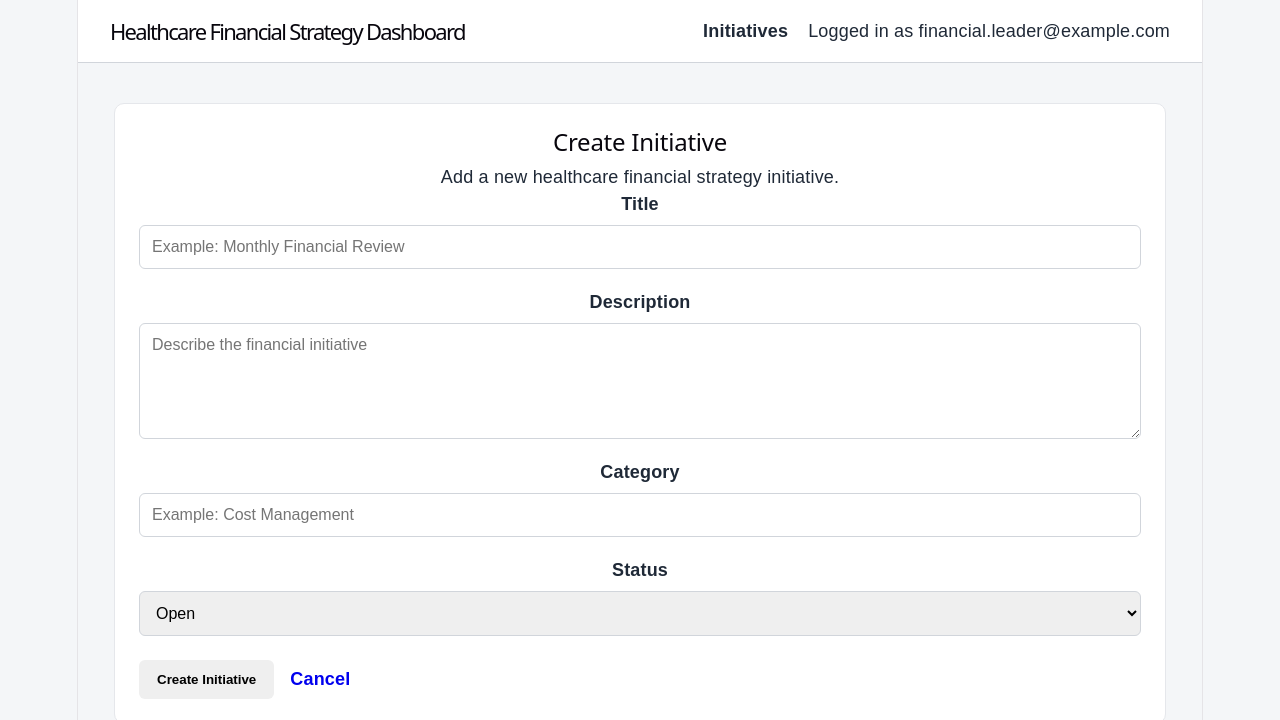
Healthcare Financial Strategy Dashboard › submits a completed create form and shows an API error
The width and height of the screenshot is (1280, 720).
Type "Bundled Payment Review" into the field labelled "Title" at [640, 247], box [139,225,1141,269]
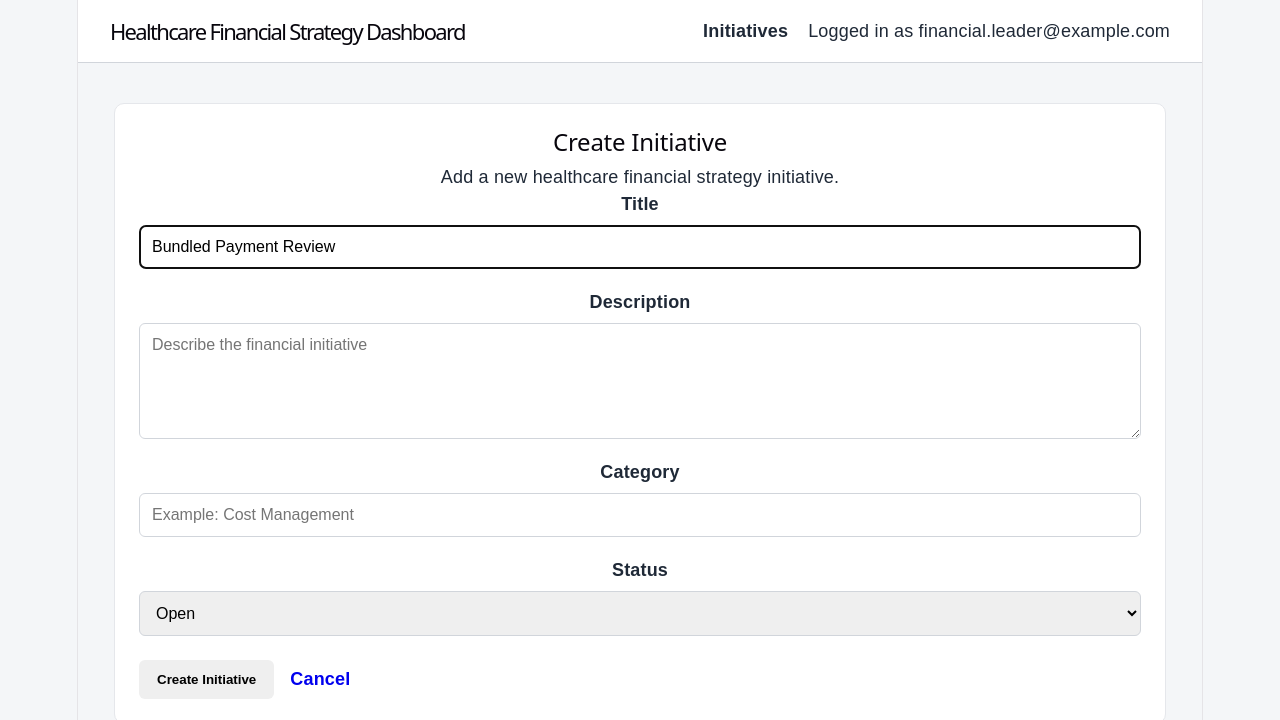
Type "Review financial performance" into the text box labelled "Description" at [640, 381], box [139,323,1141,439]
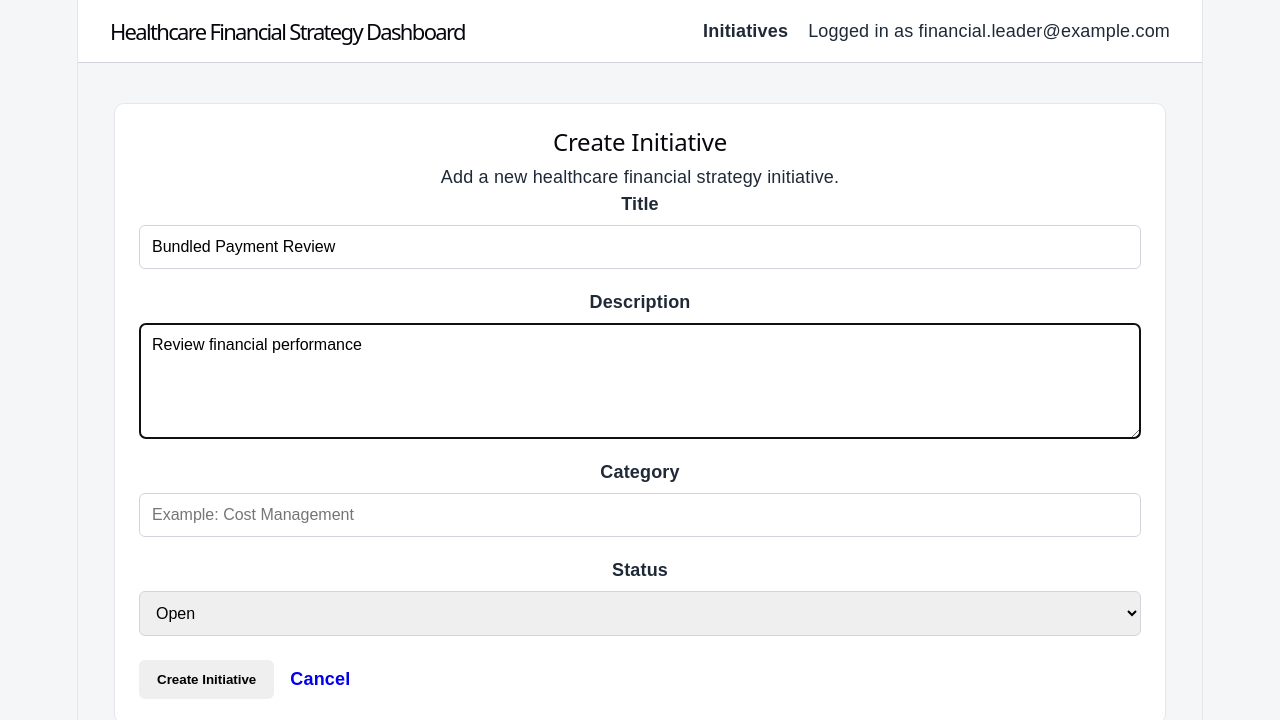
Type "Value-Based Care" into the field labelled "Category" at [640, 515], box [139,493,1141,537]
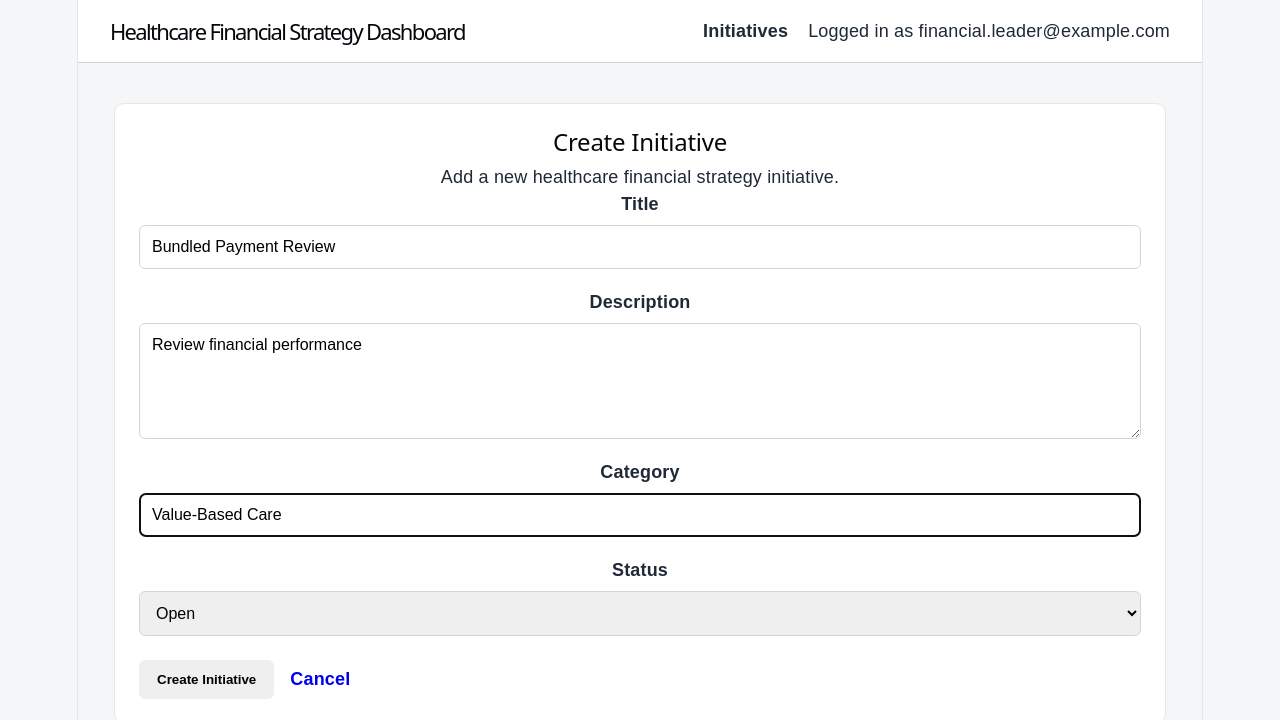
Click the button "Create Initiative" at [207, 679], box [139,660,274,699]
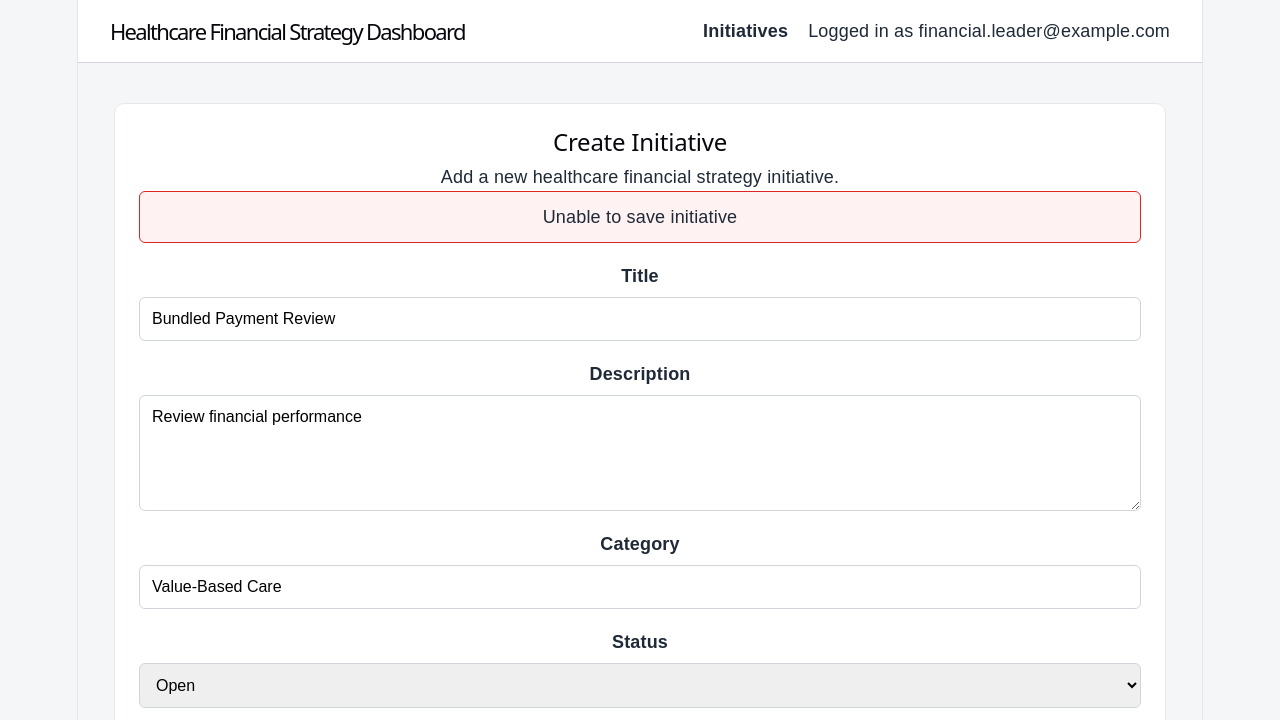
Expected: the text "Unable to save initiative" is shown, [139,190,1141,243]
